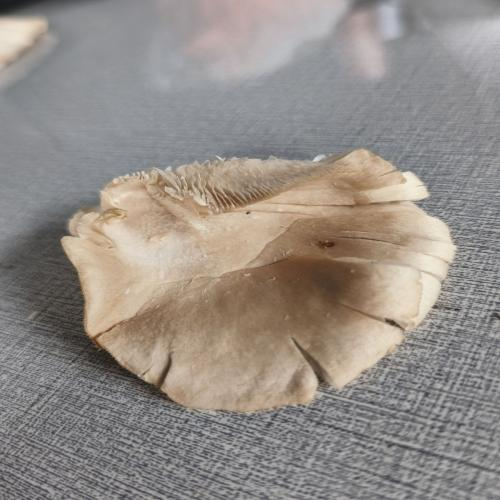Oyster Mushroom: (54, 129, 473, 434)
